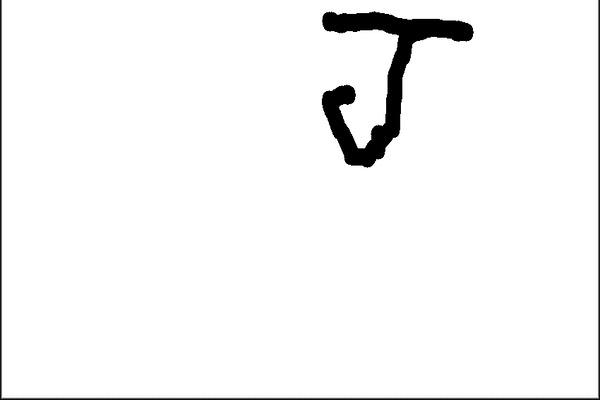J: (306, 4, 480, 173)
